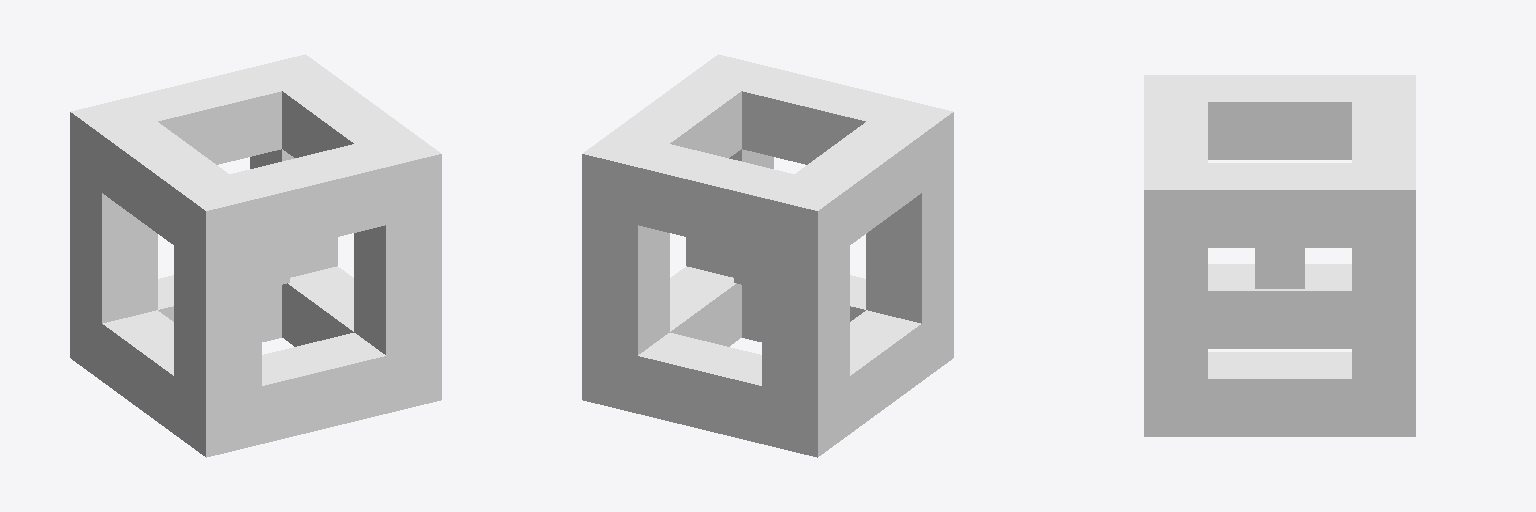
The model's file is _icon_1.obj.
3 renders of one model, left to right at view 1: azimuth 30°, elevation 25°; view 2: azimuth 150°, elevation 25°; view 3: azimuth 270°, elevation 25°, orthographic.
Parts seen in each view (by area): view 1: SubMesh_0_Mesh_0.001; view 2: SubMesh_0_Mesh_0.001; view 3: SubMesh_0_Mesh_0.001.
Boxes of the visible parts, x1,y1,x2,y2 form: SubMesh_0_Mesh_0.001: [70, 54, 441, 457]; SubMesh_0_Mesh_0.001: [582, 54, 953, 457]; SubMesh_0_Mesh_0.001: [1144, 75, 1415, 436].
Size of the model in its own units: 0.02 by 0.02 by 0.02.